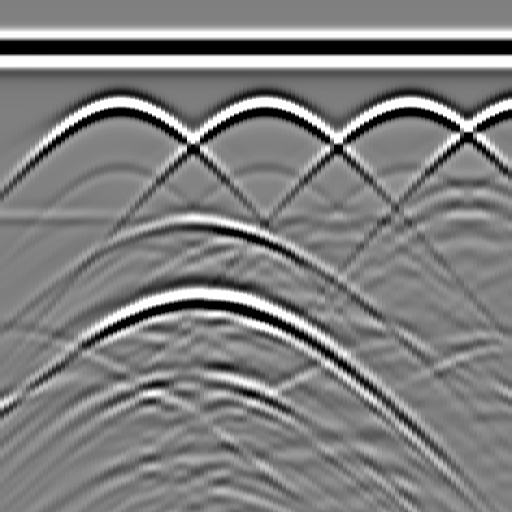grout_surface: (1, 204, 512, 234)
rebar: (98, 86, 138, 126), (243, 86, 283, 126), (387, 86, 427, 126), (502, 86, 512, 126)
rock_surface: (1, 291, 511, 384)
water_void: (169, 197, 229, 237)
